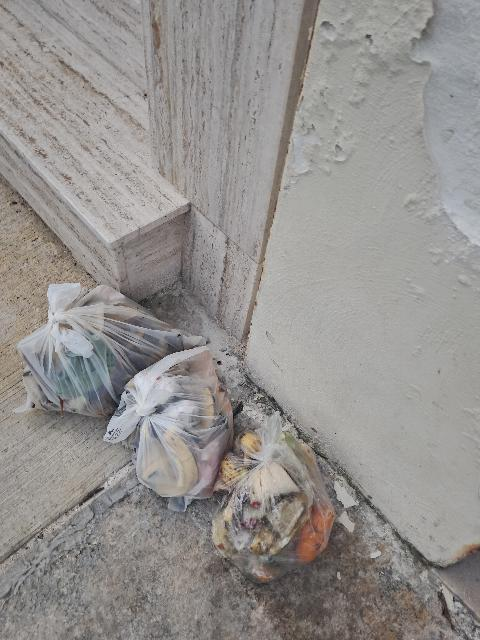Organic -White-: (17, 283, 203, 416), (104, 345, 233, 511), (212, 412, 334, 582)
